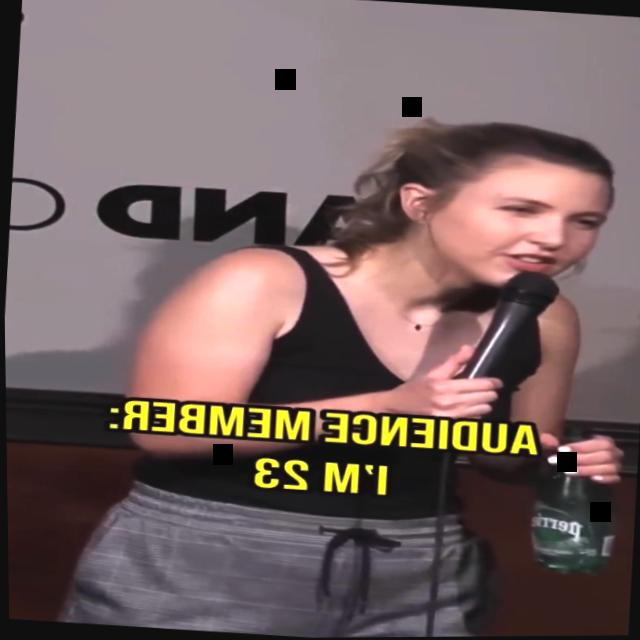NO-Mask: (406, 148, 618, 307)
